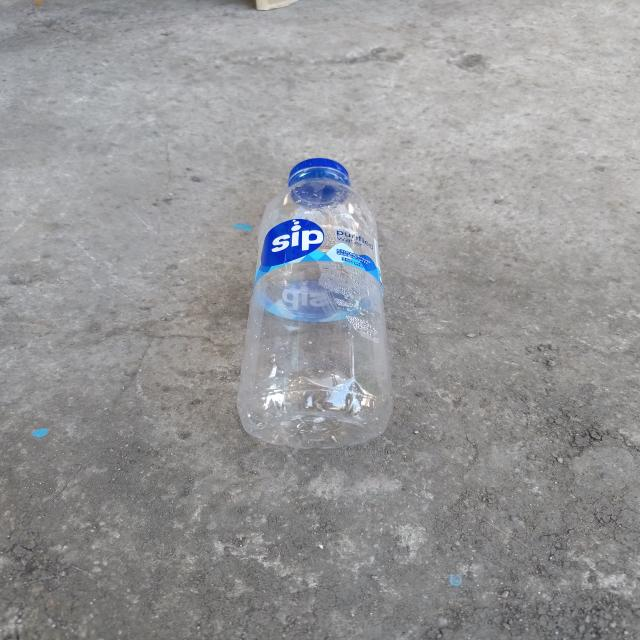Bottle: (237, 158, 392, 449)
